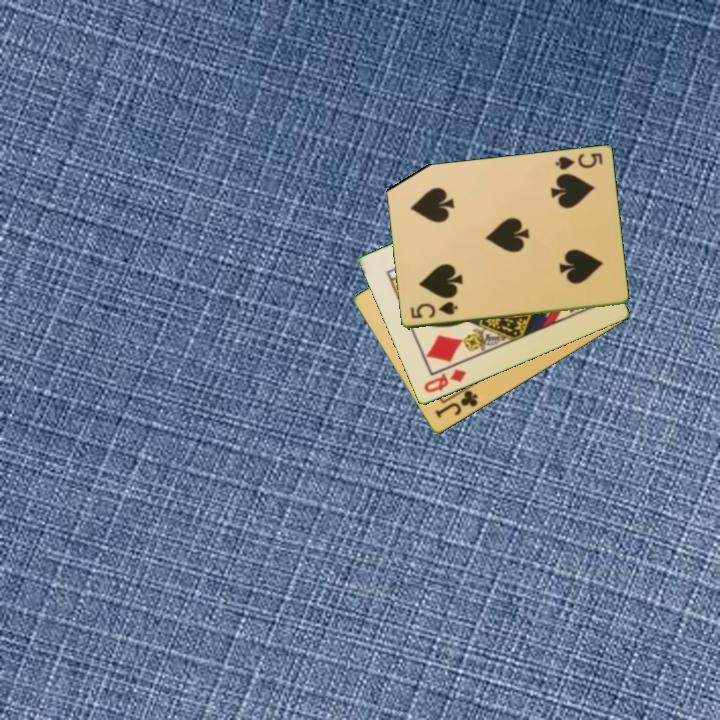5s: (551, 149, 605, 173), (407, 298, 460, 322)
Jc: (431, 387, 481, 421)
Qd: (420, 366, 469, 396)
